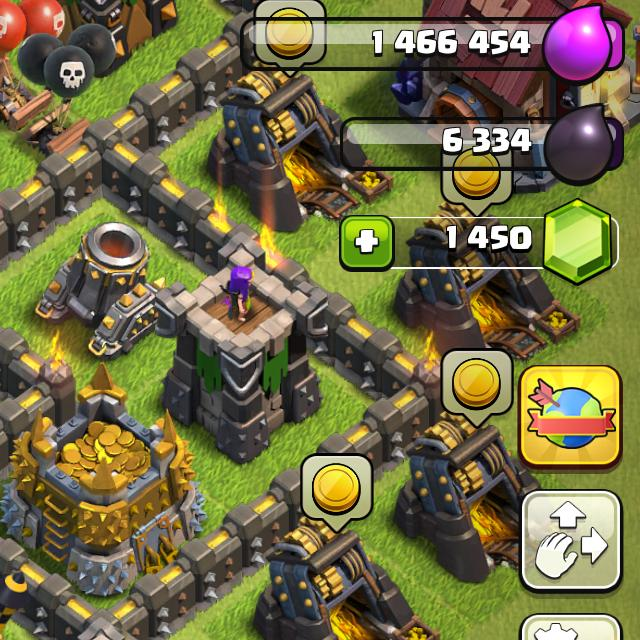coin: (443, 346, 515, 427), (303, 455, 374, 533), (259, 0, 324, 18)
